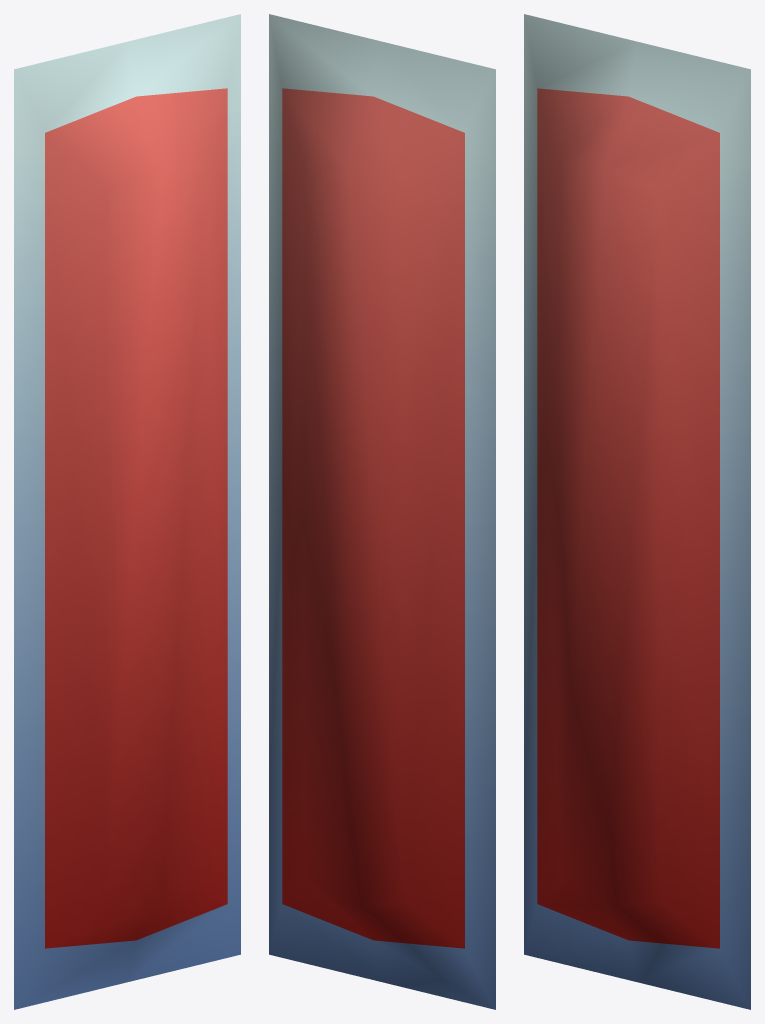
The model's file is m_IcePops06.fbx.
The picture shows the model from 3 angles, left to right: view 1: azimuth 30°, elevation 25°; view 2: azimuth 150°, elevation 25°; view 3: azimuth 330°, elevation 25°; orthographic projection.
Visible parts, largest first — view 1: m_IcePops06; view 2: m_IcePops06; view 3: m_IcePops06.
Boxes of the visible parts, box(x1,y1,x2,y2) form: m_IcePops06: box(14, 14, 240, 1009); m_IcePops06: box(269, 14, 495, 1009); m_IcePops06: box(524, 14, 750, 1009).
Bounding box in the file's own units: 5.05 × 20 × 2.6.
